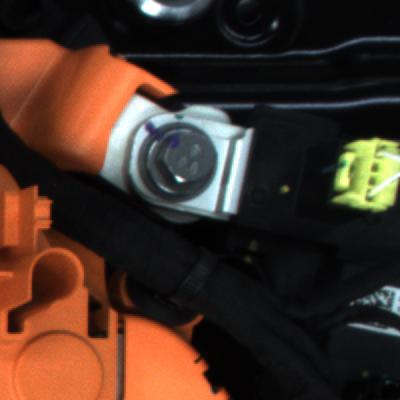nut_b: (136, 114, 226, 198)
